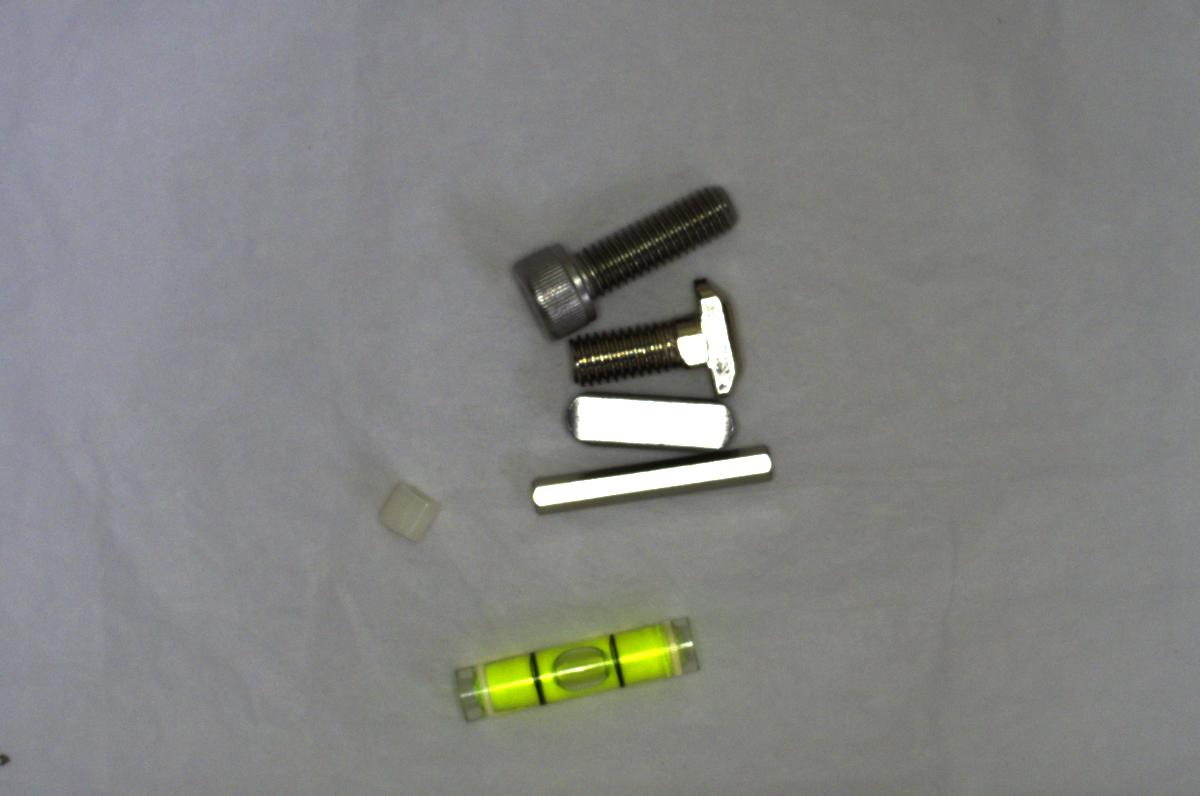Double hexagonal column: (517, 443, 786, 515)
Hexagon screw: (499, 178, 752, 329)
Horizontal bubble: (447, 609, 707, 726)
Keybar: (560, 387, 739, 456)
Plastic cushion pillar: (373, 469, 444, 548)
T-shaped screw: (570, 268, 751, 408)
